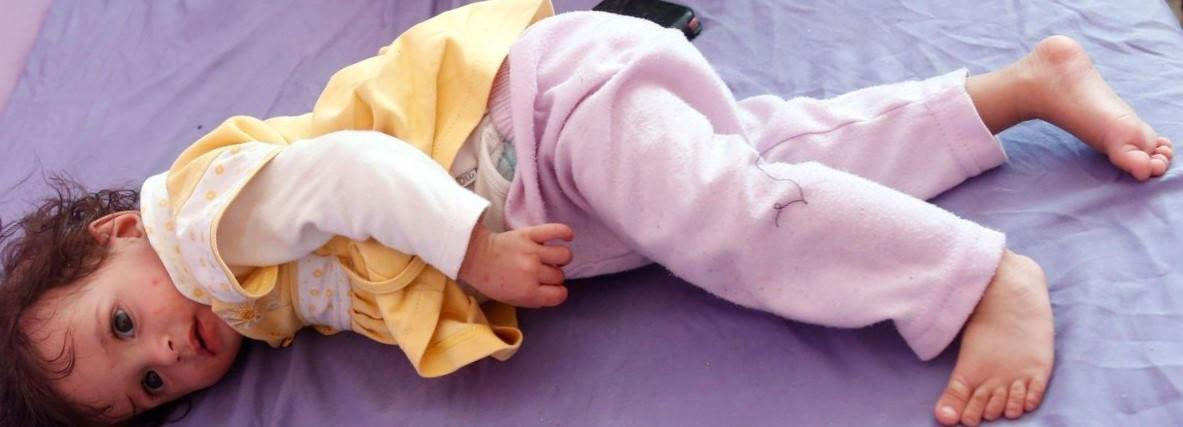Stunting: (7, 240, 290, 427)
